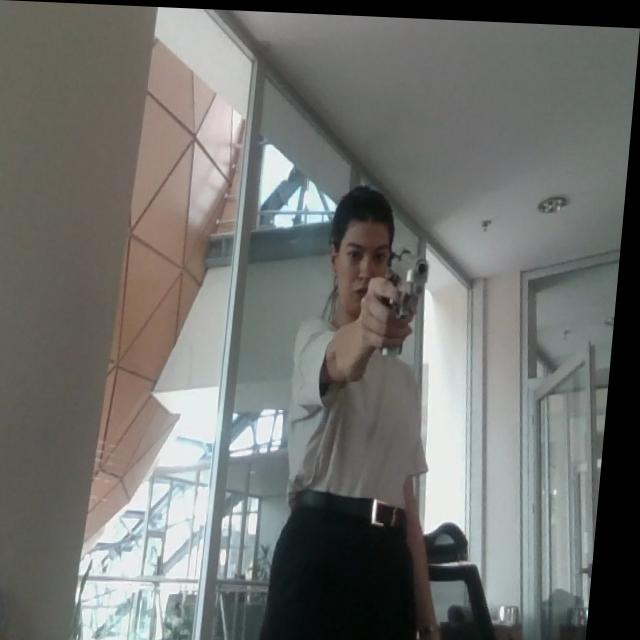handgun: (378, 224, 470, 367)
